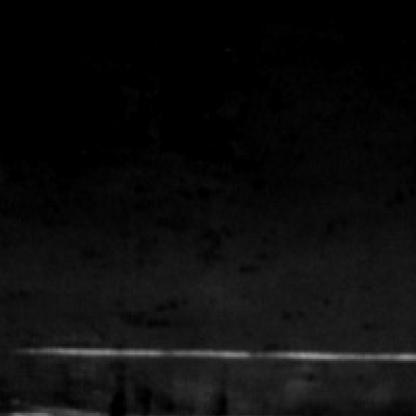patches: (184, 2, 252, 70)
pitted_surface: (113, 146, 387, 278)
scratches: (12, 341, 414, 375)
